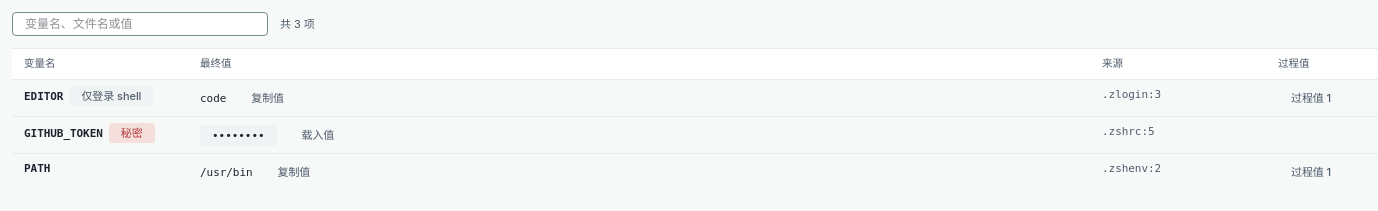
Test: variable search list › opens the process values of a row when one of them matches, and marks that step
This screenshot has width=1378, height=211.
In the search field named "搜索变量": (140, 24) 12,12 -> 268,36, type "opt"
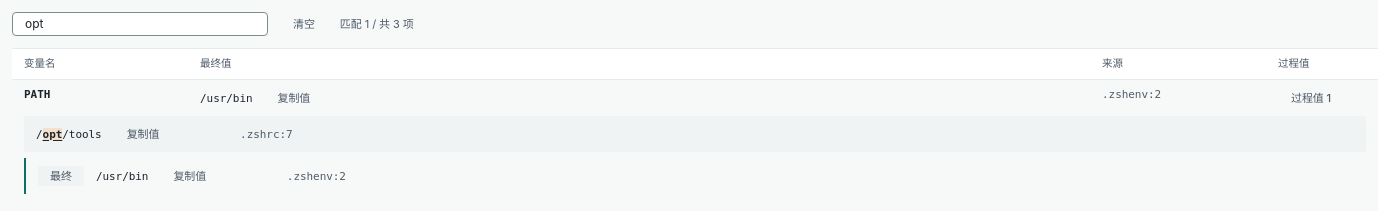
Check: the list item "/opt/tools 复制值 .zshrc:7" is shown, box 24,116 -> 1366,152
